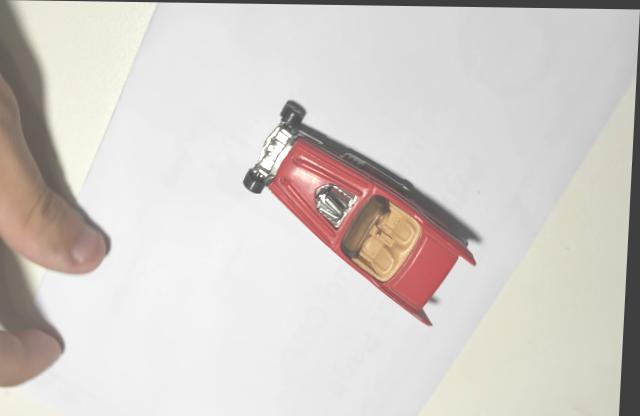03_V8: (244, 98, 486, 323)
